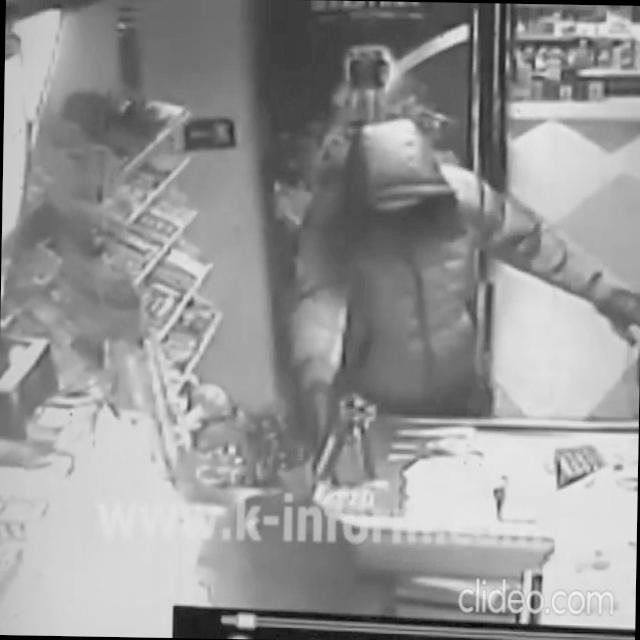gun: (310, 412, 350, 491)
person with a gun: (287, 111, 640, 496)
